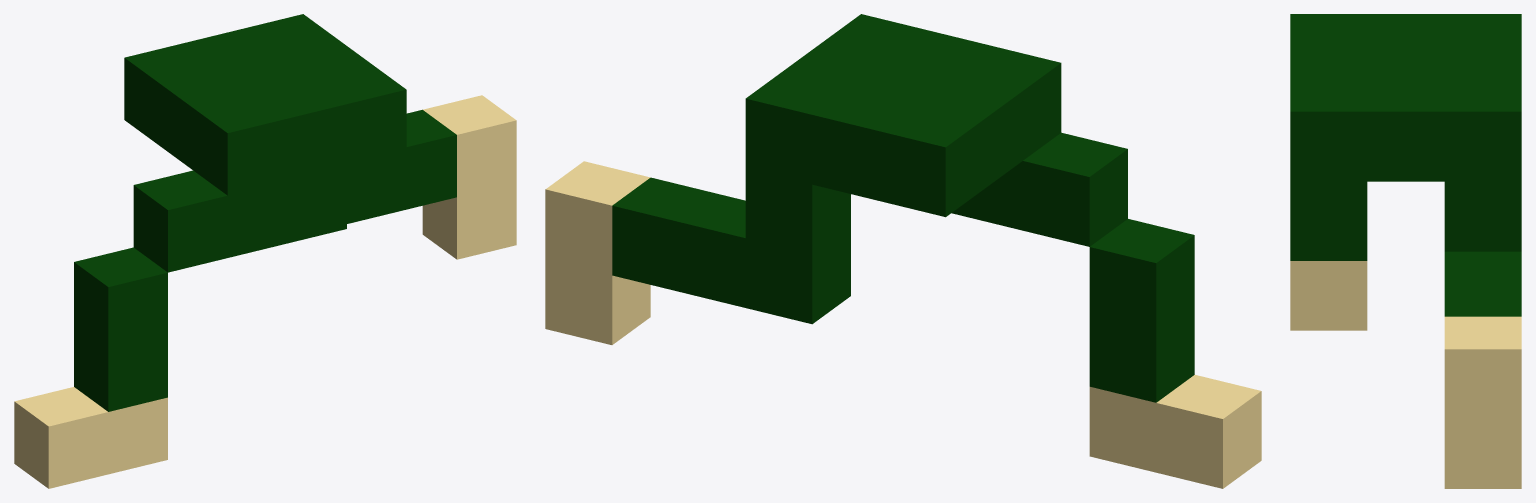
The model's file is human-6-torso_walk.obj.
3 views of the same model, side by side, from view 1: azimuth 30°, elevation 25°; view 2: azimuth 150°, elevation 25°; view 3: azimuth 270°, elevation 25° (orthographic). The views are drawn at different scales.
Visible parts, largest first — view 1: torso_walk; view 2: torso_walk; view 3: torso_walk.
Boxes of the visible parts, x1,y1,x2,y2 form: torso_walk: (14,14,516,488); torso_walk: (545,14,1261,488); torso_walk: (1290,14,1521,488).
Size of the model in its own units: 0.9 by 0.5 by 0.3.
1 material, 1 textured.
